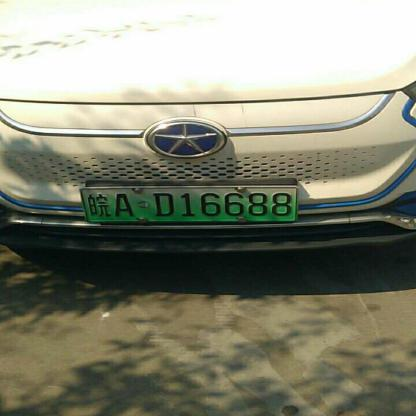lp: (78, 188, 296, 221)
